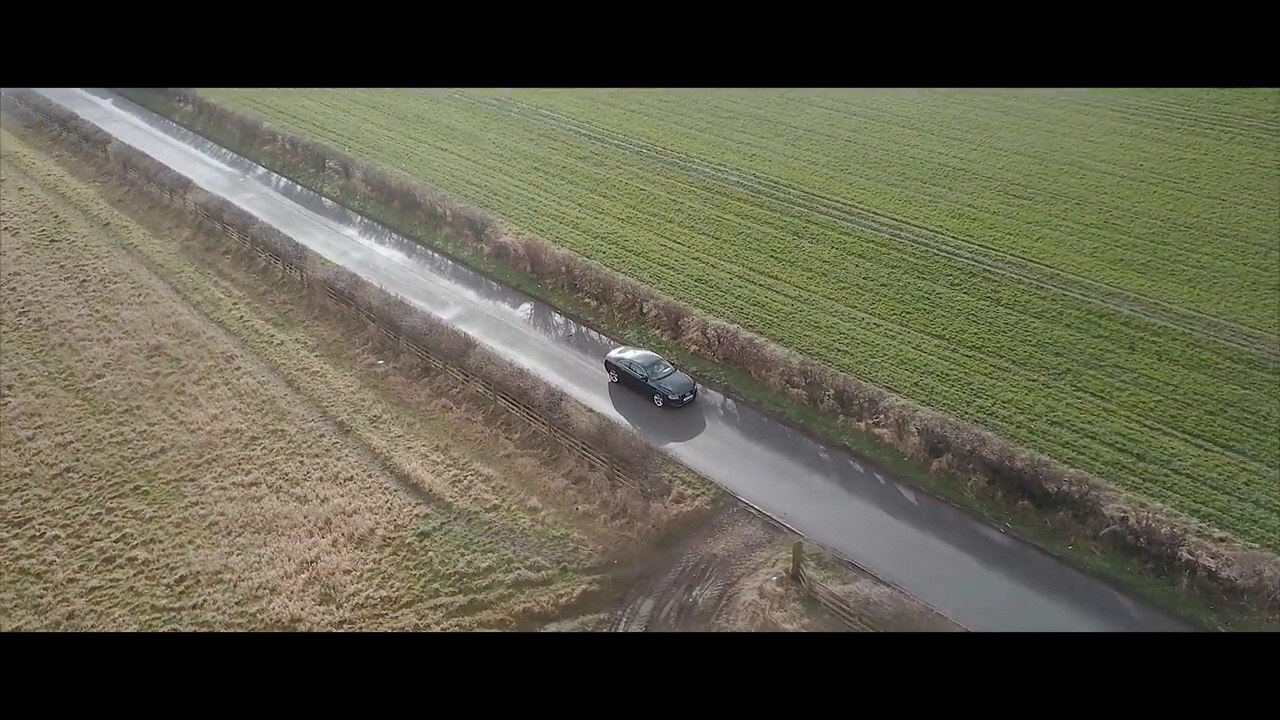araba: (599, 344, 701, 412)
